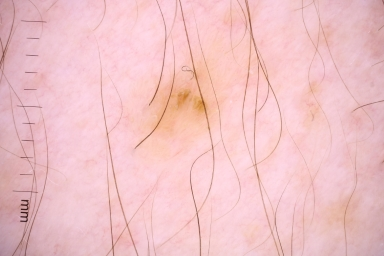melanoma: (131, 75, 211, 164)
